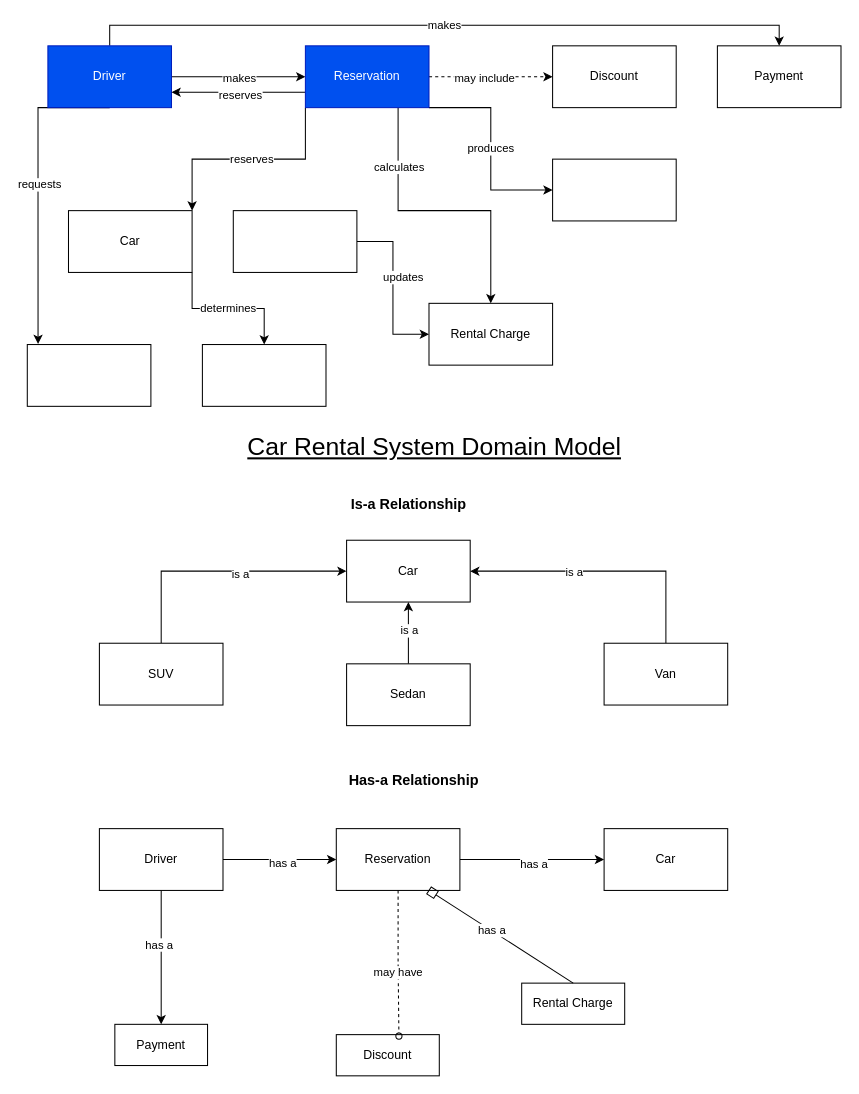
Image size: 859x1094. Some labels were removed from this diagram. Here are the shapes that lost their labels. From the top down, the box of each, then its label:
(552, 158, 676, 221): Booking Confirmation
(232, 210, 357, 272): Admin
(26, 344, 151, 406): Extension
(201, 344, 326, 406): Availability
